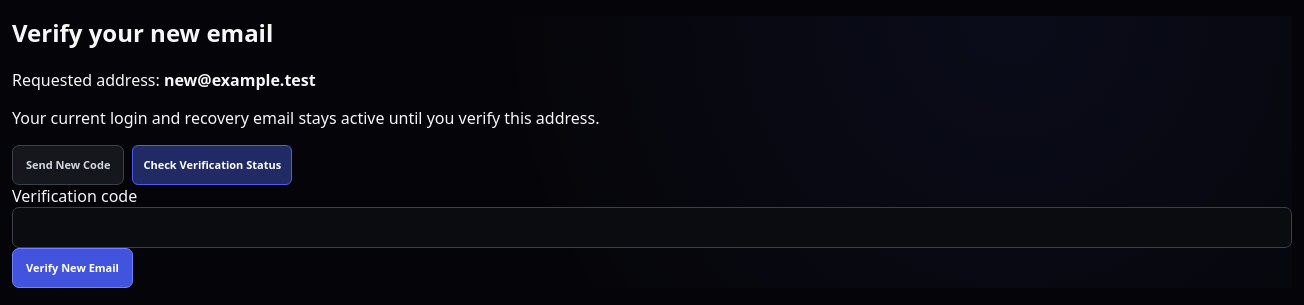
retires an old code and reloads a corrected request without repeating provider actions
Type "123456" into the field named "Email verification code".
click(652, 227); type("123456")  # box [12,207,1292,248]
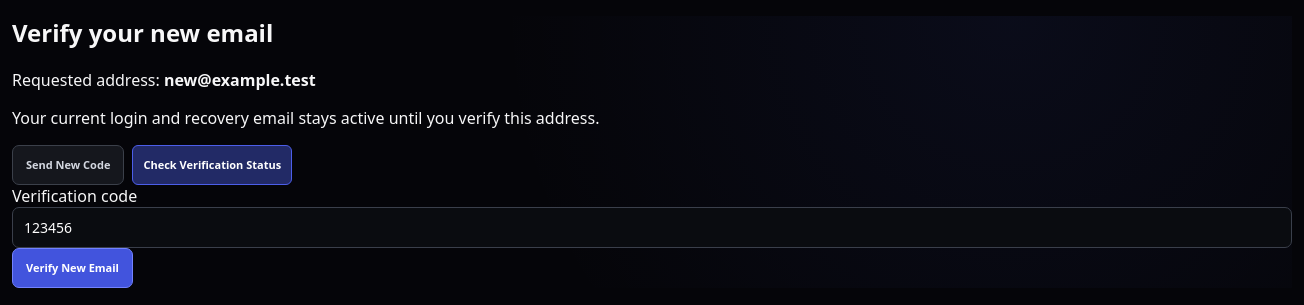
Click the button "Verify New Email".
click(72, 268)  # box [12,248,133,288]
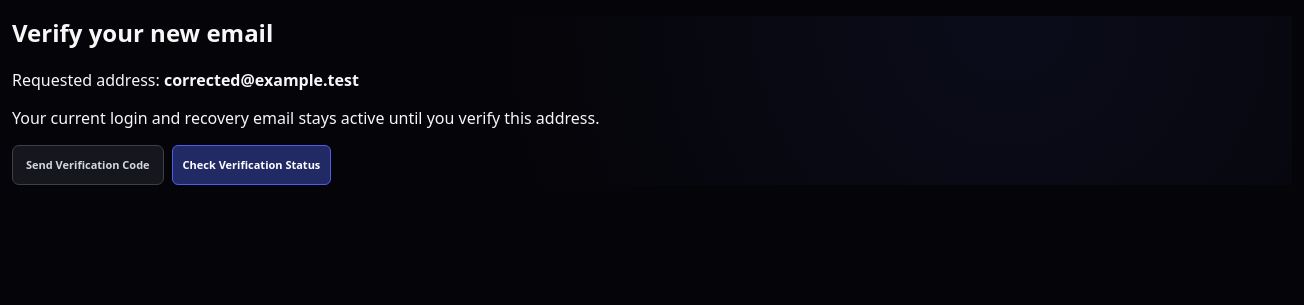
Check: the text "corrected@example.test" is shown, box [164,69,359,91]
